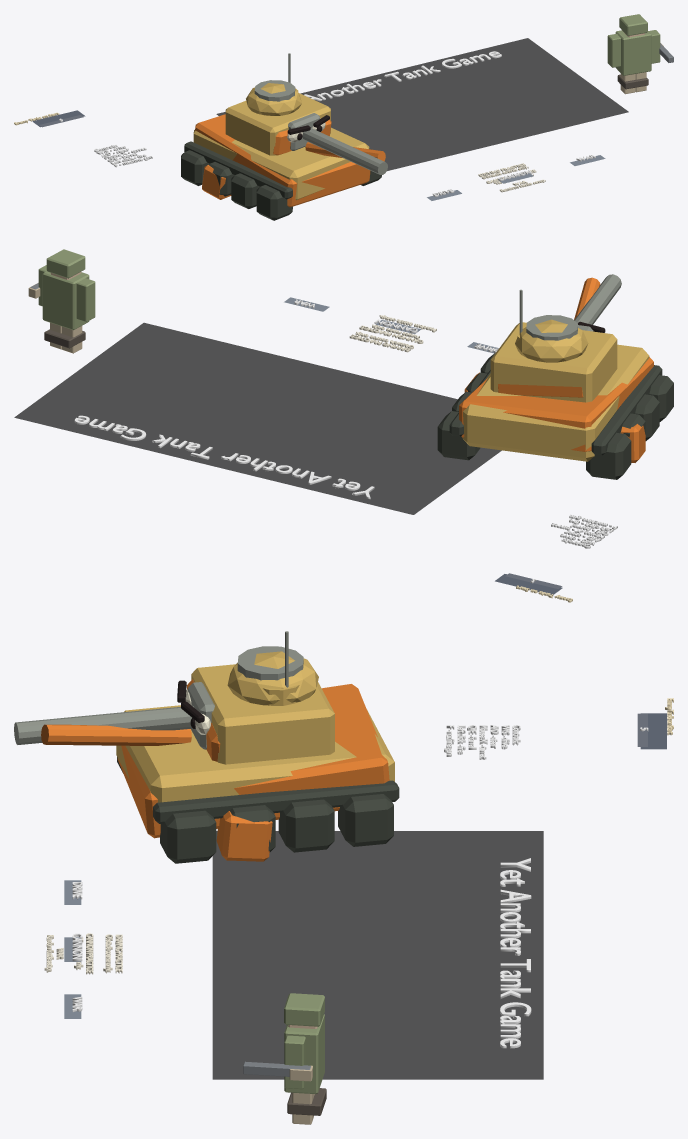
The model's file is YetAnotherTankMainMenu.fbx.
3 views of the same model, one above another, from view 1: azimuth 30°, elevation 25°; view 2: azimuth 150°, elevation 25°; view 3: azimuth 270°, elevation 25° (orthographic). The views are drawn at different scales.
Parts seen in each view (by area): view 1: MainPanel, Hull, Hull_Damaged, Turret, Barrel, Torso, Title, LeftSideGuard, CommanderHelmet, LeftWheel_0, LeftWheel_1, LeftWheel_3 (+11 smaller); view 2: MainPanel, Hull, Turret, Hull_Damaged, Title, CommanderHelmet, Torso, LeftSideGuard, LeftWheel_3, ModeTutorialText, InstructionsText, RightWheel_3 (+8 smaller); view 3: MainPanel, Turret, Hull, Hull_Damaged, RightSideGuard, Title, Barrel, Barrel_Damaged, CommanderHelmet, RightWheel_0, RightWheel_2, RightWheel_3 (+10 smaller).
Part boxes in pixels (x1,y1,x2,y2): MainPanel: (216,38,628,170); Hull: (193,127,369,200); Hull_Damaged: (195,114,370,207); Turret: (225,93,330,155); Barrel: (302,128,387,174); Torso: (615,30,651,75); Title: (304,51,501,101); LeftSideGuard: (184,141,292,199); CommanderHelmet: (246,83,301,115); LeftWheel_0: (256,185,292,220); LeftWheel_1: (231,173,259,208); LeftWheel_3: (181,150,208,185); MainPanel: (14,322,501,514); Hull: (462,344,649,461); Turret: (490,322,617,402); Hull_Damaged: (459,357,653,451); Title: (74,415,374,499); CommanderHelmet: (515,319,588,362); Torso: (42,271,89,330); LeftSideGuard: (591,365,662,455); LeftWheel_3: (586,432,631,479); ModeTutorialText: (349,315,436,352); InstructionsText: (551,514,617,548); RightWheel_3: (437,411,480,460); MainPanel: (212,831,543,1079); Turret: (191,664,334,764); Hull: (116,705,394,824); Hull_Damaged: (117,684,389,838); RightSideGuard: (153,780,399,823); Title: (500,858,531,1048); Barrel: (14,705,193,744); Barrel_Damaged: (41,724,191,745); CommanderHelmet: (227,651,318,705); RightWheel_0: (160,810,216,863); RightWheel_2: (278,799,334,852); RightWheel_3: (338,794,393,846).
Bounding box in the file's own units: 16.43 × 3.71 × 10.77.
